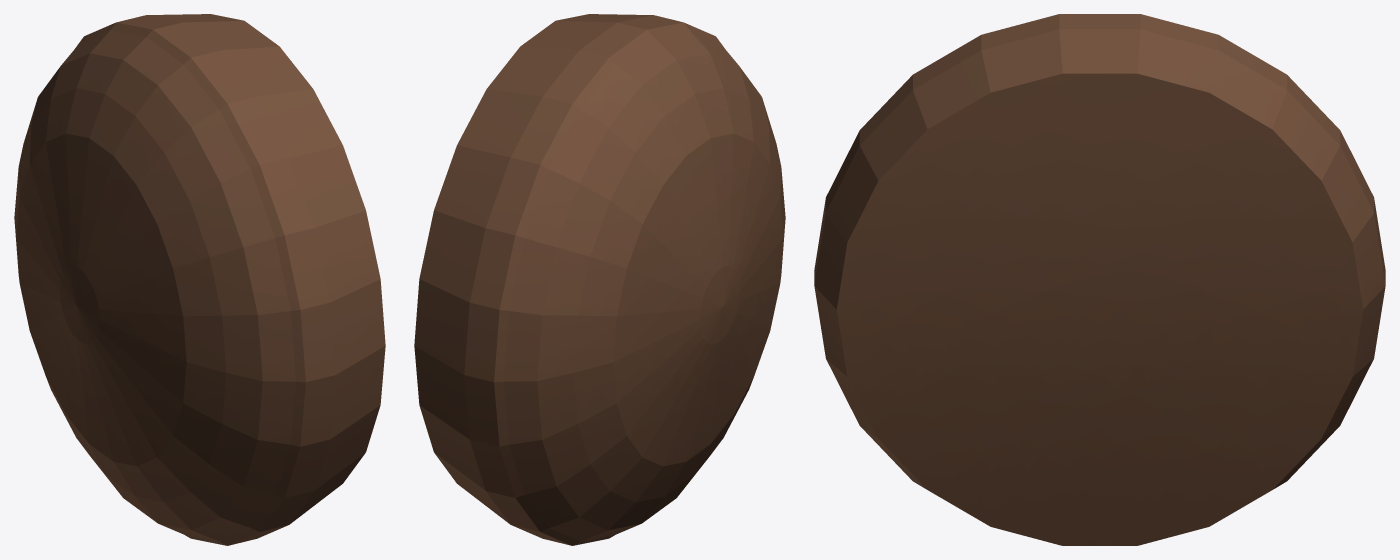
The model's file is AvocadoSeed_Model.fbx.
The picture shows the model from 3 angles, left to right: view 1: azimuth 30°, elevation 25°; view 2: azimuth 150°, elevation 25°; view 3: azimuth 270°, elevation 25°; orthographic projection. The views are drawn at different scales.
Parts seen in each view (by area): view 1: Circle.001; view 2: Circle.001; view 3: Circle.001.
Part boxes in pixels (x1=…): Circle.001: x1=14, y1=14, x2=385, y2=545; Circle.001: x1=414, y1=14, x2=785, y2=545; Circle.001: x1=814, y1=14, x2=1385, y2=545.
Size of the model in its own units: 206 by 510 by 515.
1 material, 1 textured.
